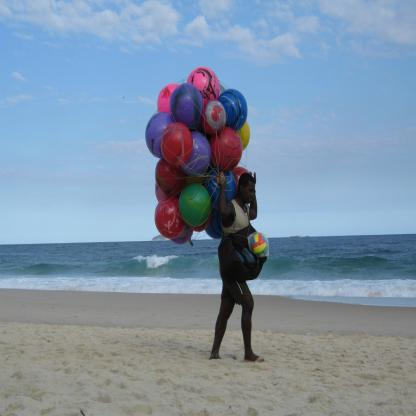Ball: (143, 66, 252, 246), (252, 233, 270, 259)
